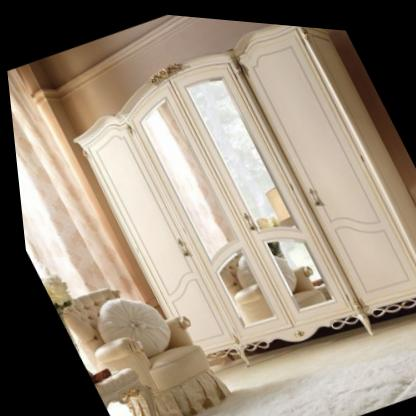Closet: (70, 19, 416, 360)
Curtains: (6, 63, 141, 301)
